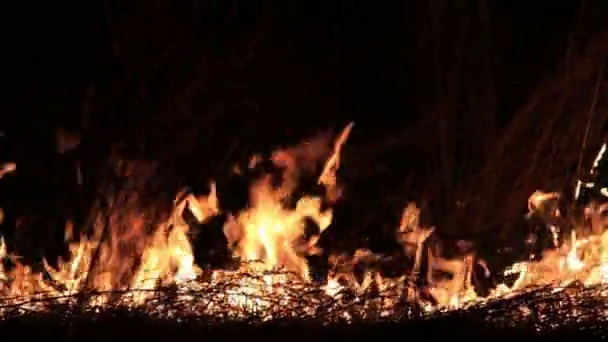fire: (1, 194, 219, 310), (211, 141, 349, 320), (357, 209, 474, 316), (490, 213, 608, 300)
